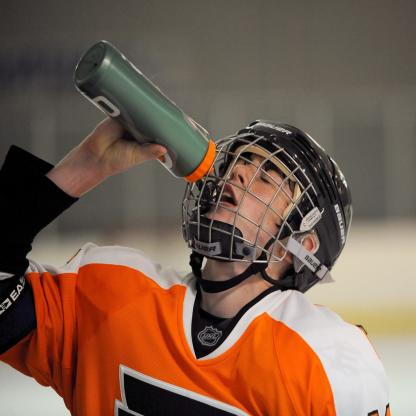Helmet: (174, 130, 341, 320)
